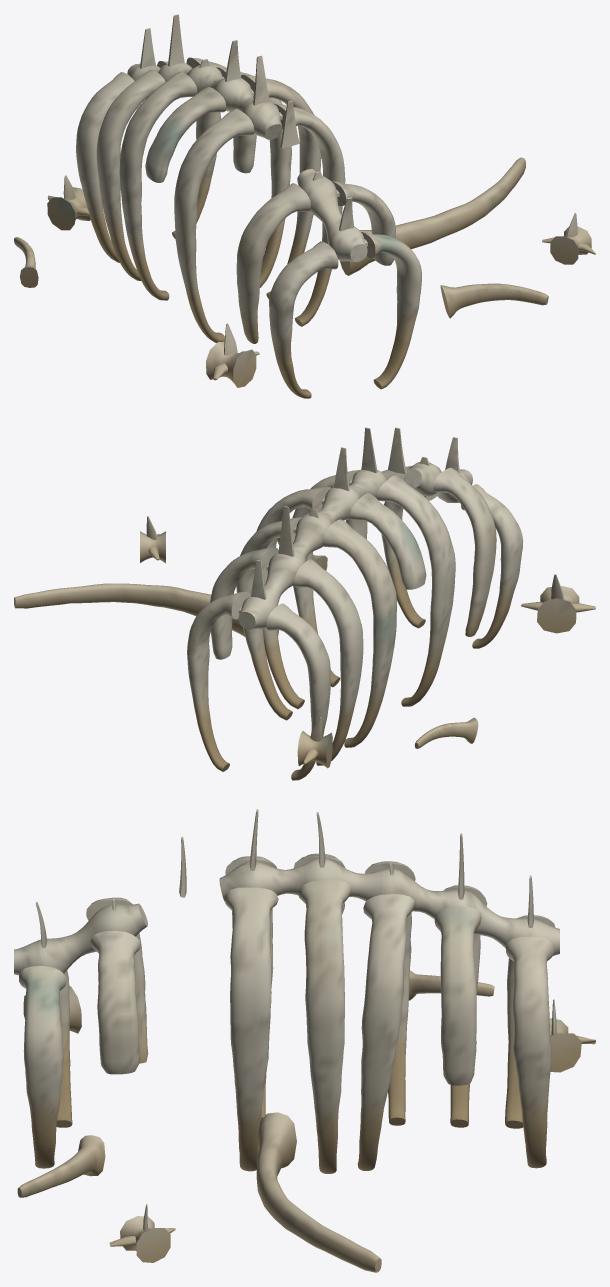
The model's file is giant_ribs_lod0.glb.
3 renders of one model, top to bottom at view 1: azimuth 30°, elevation 25°; view 2: azimuth 150°, elevation 25°; view 3: azimuth 270°, elevation 25°, orthographic. The views are drawn at different scales.
Parts seen in each view (by area): view 1: GiantRibs; view 2: GiantRibs; view 3: GiantRibs.
Boxes of the visible parts, x1,y1,x2,y2 form: GiantRibs: (14, 14, 595, 398); GiantRibs: (14, 427, 595, 780); GiantRibs: (14, 809, 595, 1272).
Size of the model in its own units: 25.46 by 13.69 by 21.37.
